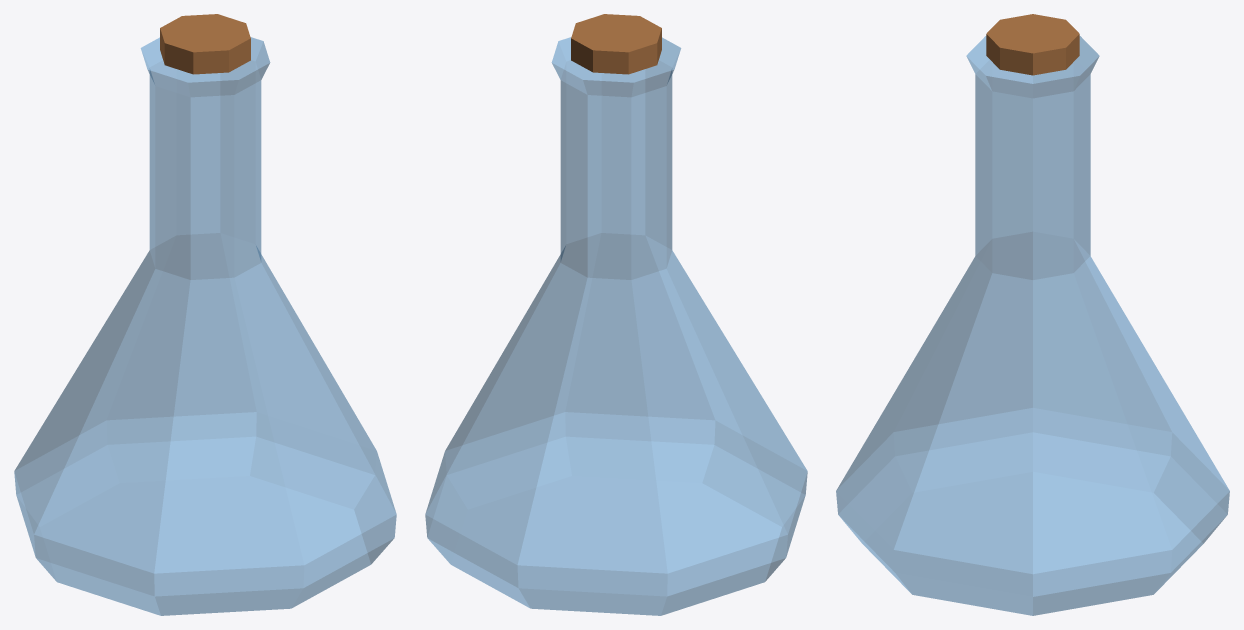
The model's file is Flask.fbx.
The picture shows the model from 3 angles, left to right: view 1: azimuth 30°, elevation 25°; view 2: azimuth 150°, elevation 25°; view 3: azimuth 270°, elevation 25°; orthographic projection.
Parts seen in each view (by area): view 1: Flask; view 2: Flask; view 3: Flask.
Part boxes in pixels (<box>): Flask: <box>14,14,396,615</box>; Flask: <box>425,14,807,615</box>; Flask: <box>836,14,1229,615</box>.
Size of the model in its own units: 11.54 by 16.49 by 11.54.
